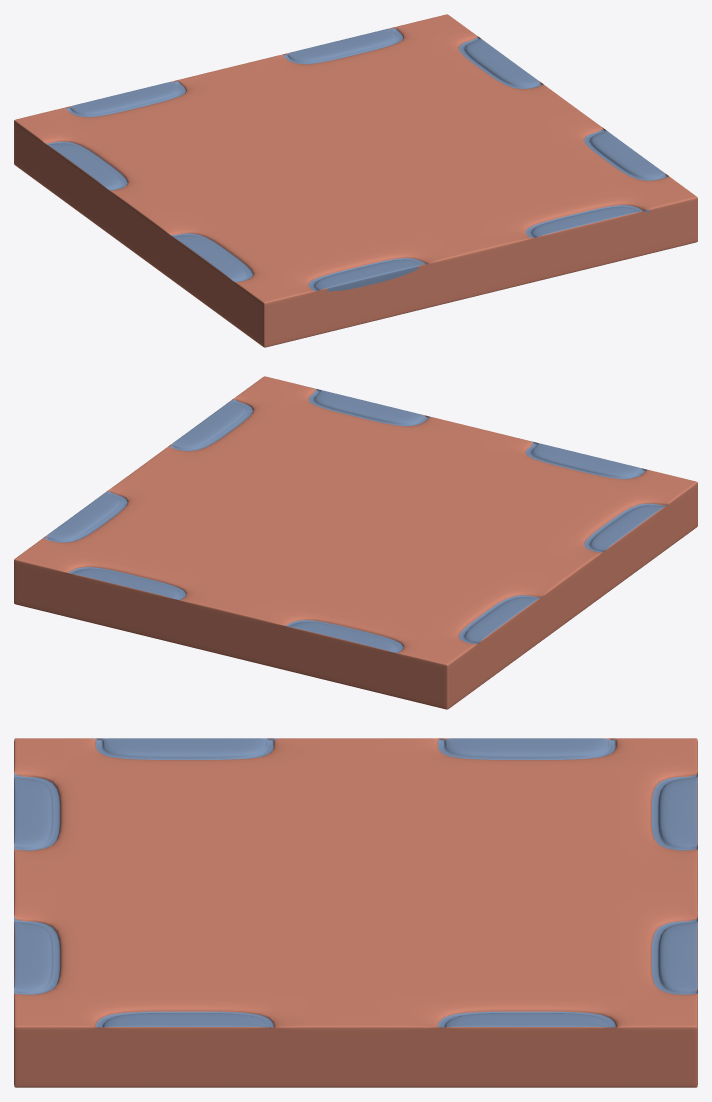
Rendered from orange_mazefloor.fbx.
The picture shows the model from 3 angles, top to bottom: view 1: azimuth 30°, elevation 25°; view 2: azimuth 150°, elevation 25°; view 3: azimuth 270°, elevation 25°; orthographic projection. The views are drawn at different scales.
Parts seen in each view (by area): view 1: orangemat; view 2: orangemat; view 3: orangemat.
Boxes of the visible parts, x1=… form: orangemat: x1=14, y1=14, x2=697, y2=347; orangemat: x1=14, y1=376, x2=697, y2=709; orangemat: x1=14, y1=738, x2=697, y2=1087.
Bounding box in the file's own units: 10 × 1 × 10.
